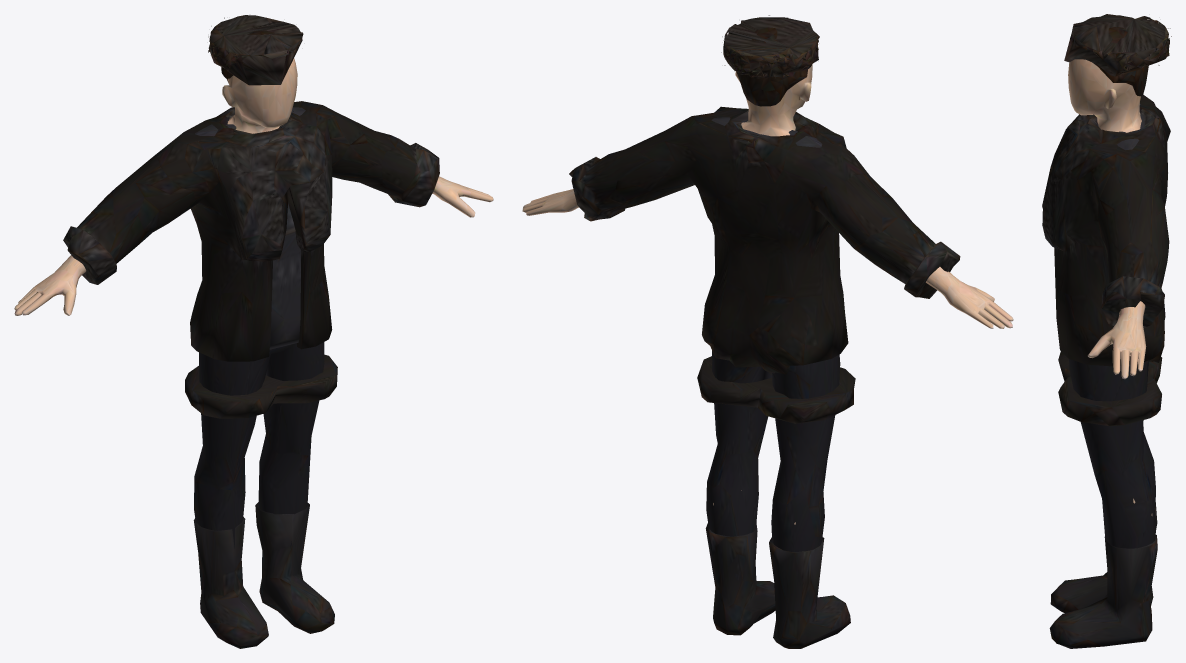
File: npc_x_bandit_w1.glb
3 views of the same model, side by side, from view 1: azimuth 30°, elevation 25°; view 2: azimuth 150°, elevation 25°; view 3: azimuth 270°, elevation 25° (orthographic). The views are drawn at different scales.
Visible parts, largest first — view 1: Human; view 2: Human; view 3: Human.
Part boxes in pixels (box(x1,y1,x2,y2)): Human: box(14, 15, 493, 648); Human: box(522, 15, 1013, 648); Human: box(1042, 14, 1171, 648).
Size of the model in its own units: 1.58 by 1.87 by 0.3665.
1 material, 1 textured.
